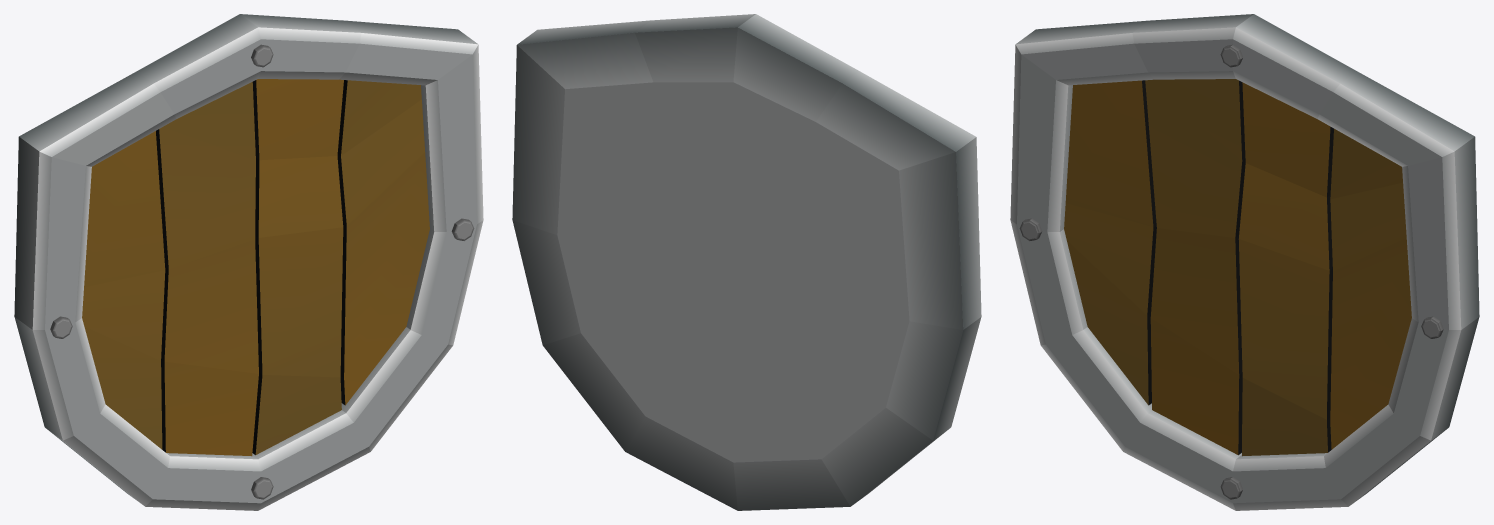
File: shield_6.fbx
3 renders of one model, left to right at view 1: azimuth 30°, elevation 25°; view 2: azimuth 150°, elevation 25°; view 3: azimuth 330°, elevation 25°, orthographic.
Visible parts, largest first — view 1: shield_6; view 2: shield_6; view 3: shield_6.
Part boxes in pixels (<box>): shield_6: <box>14,14,483,510</box>; shield_6: <box>512,14,981,510</box>; shield_6: <box>1010,14,1479,510</box>.
Size of the model in its own units: 0.5055 by 0.5182 by 0.0579.
